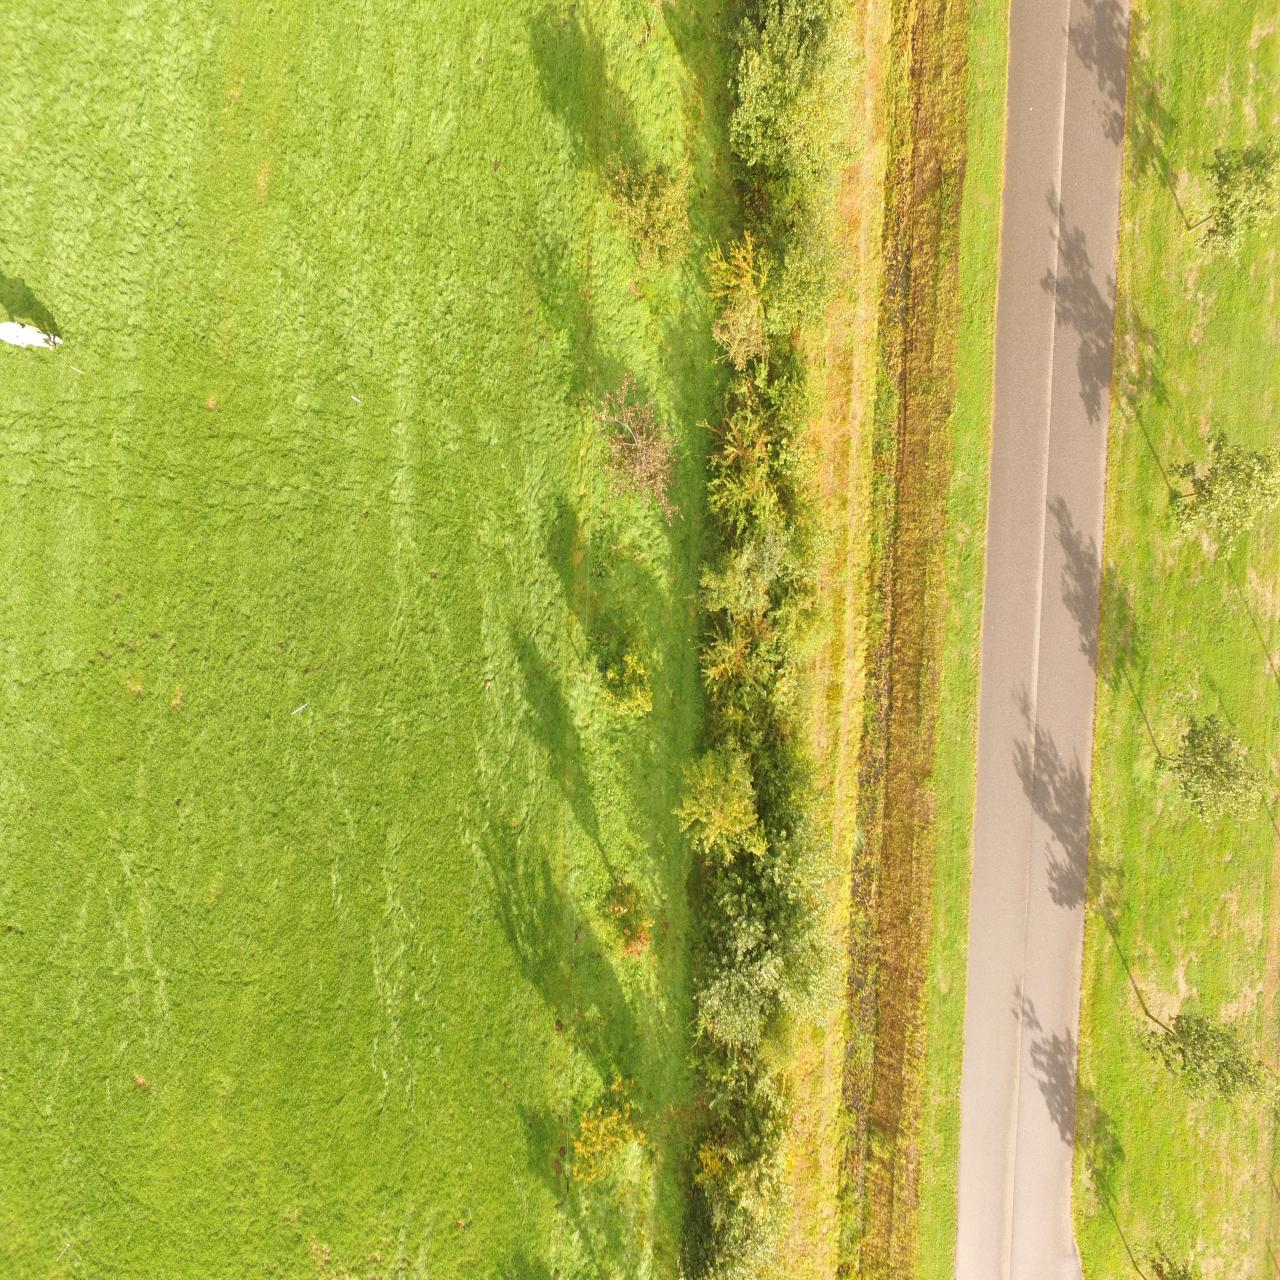cow: (1, 314, 64, 356)
